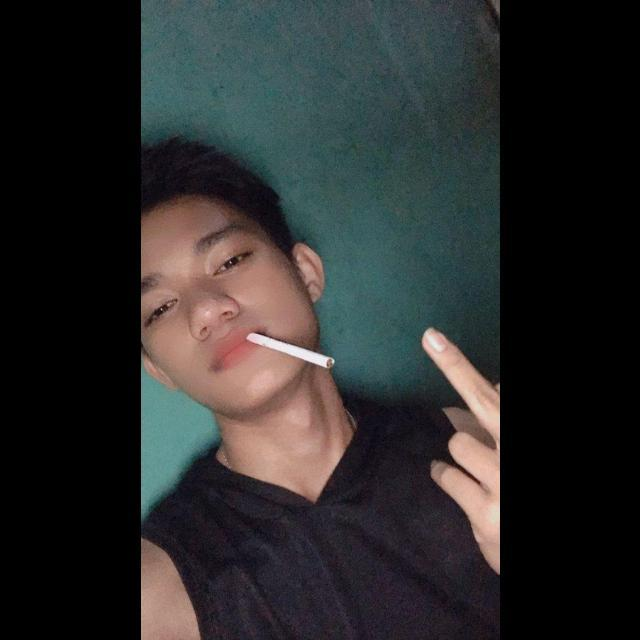rokok: (245, 326, 338, 376)
